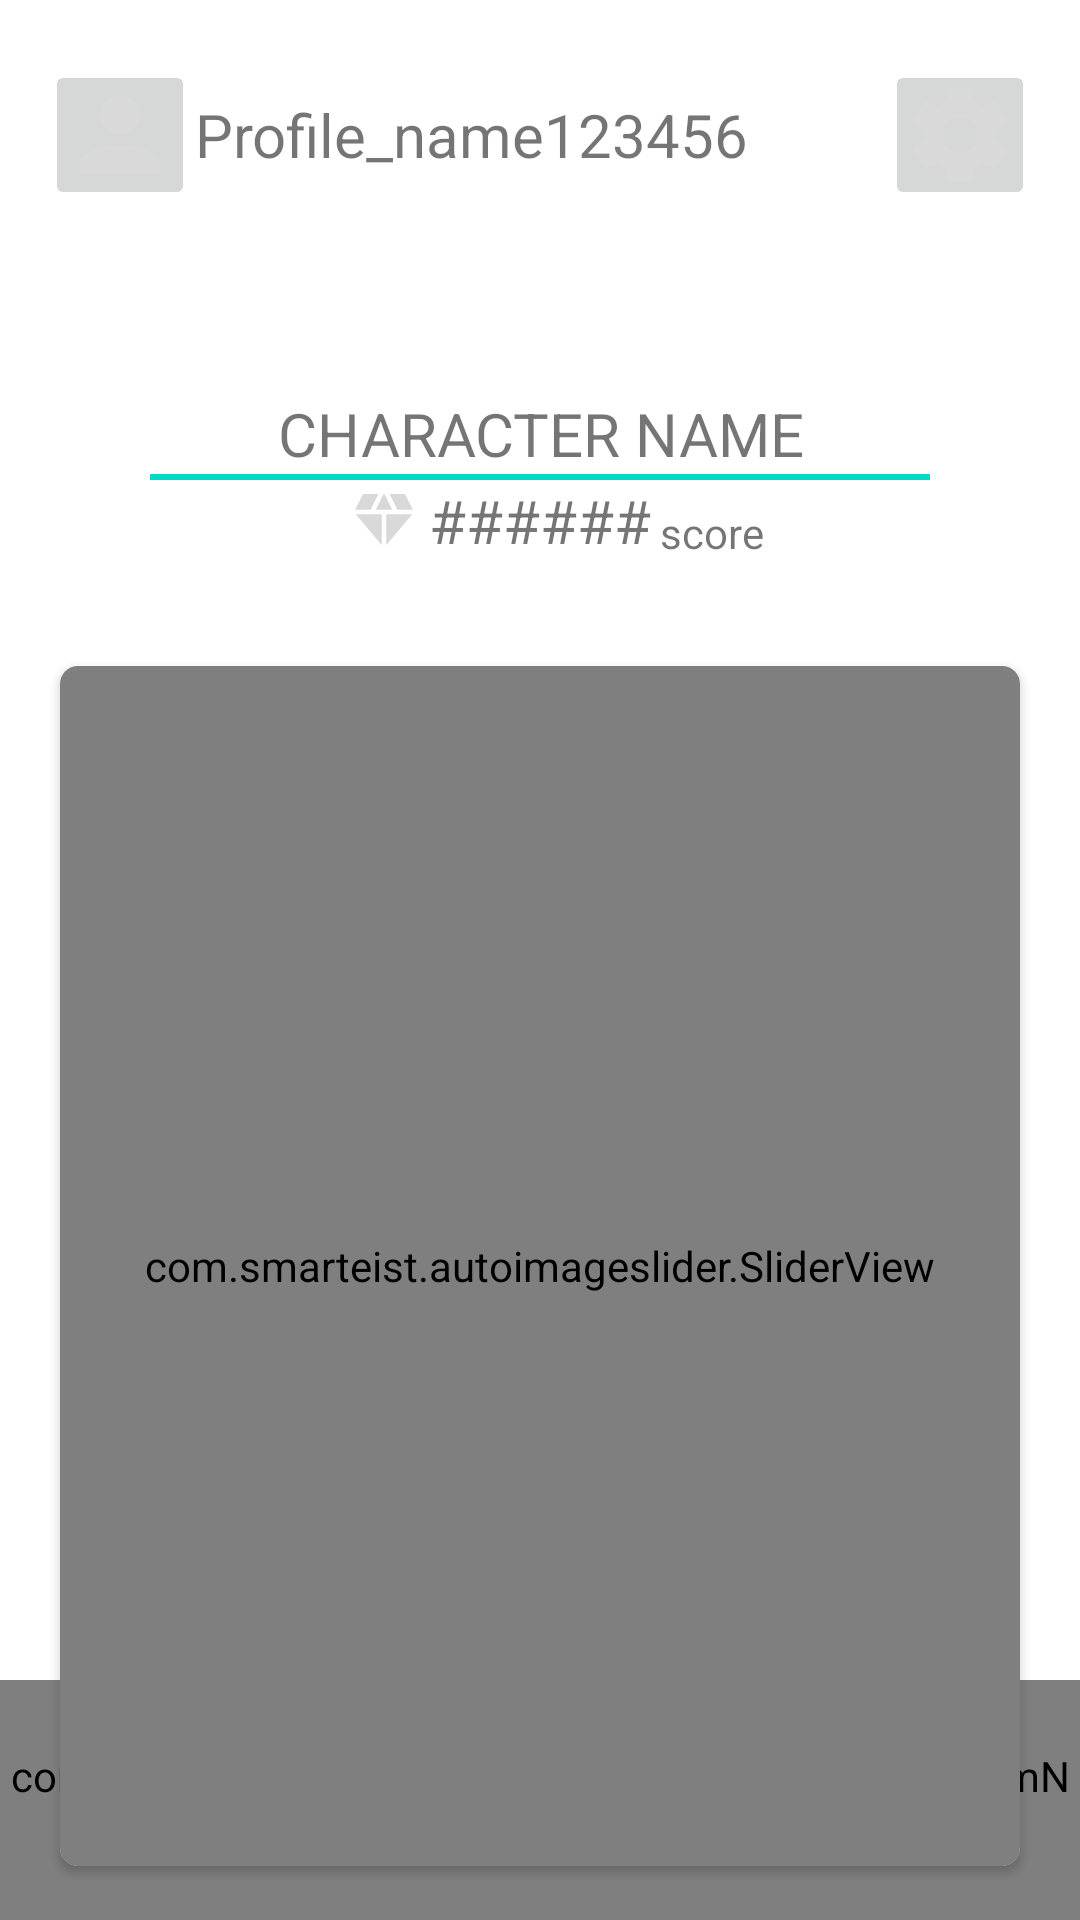

Screen size 1080×1920. Icon name, then its box in pixels as (x1, y1, x2, y2):
diamond: (356, 494, 412, 544)
